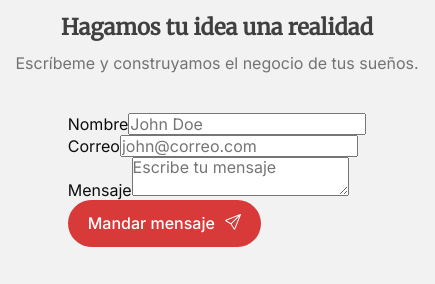
Test case: Contacto - Pruebas Funcionales › muestra error cuando el correo es inválido
Step 1. Type "Juan Pérez" into the field labelled "Nombre" → x=247, y=124, box 128,113 -> 366,135
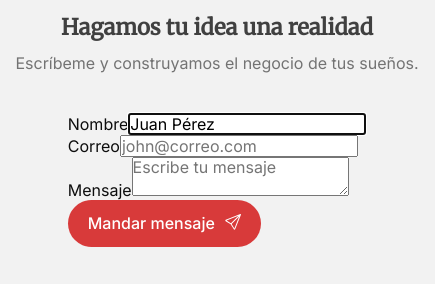
Step 2. Type "correo-invalido" into the field labelled "Correo" → x=239, y=146, box 120,135 -> 358,158
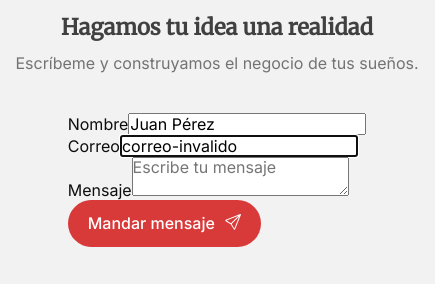
Step 3. Click the button "Mandar mensaje" → x=164, y=223, box 68,200 -> 261,247
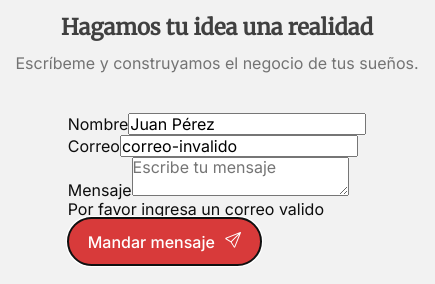
Now the text "Por favor ingresa un correo valido" is shown, box 68,200 -> 366,218
